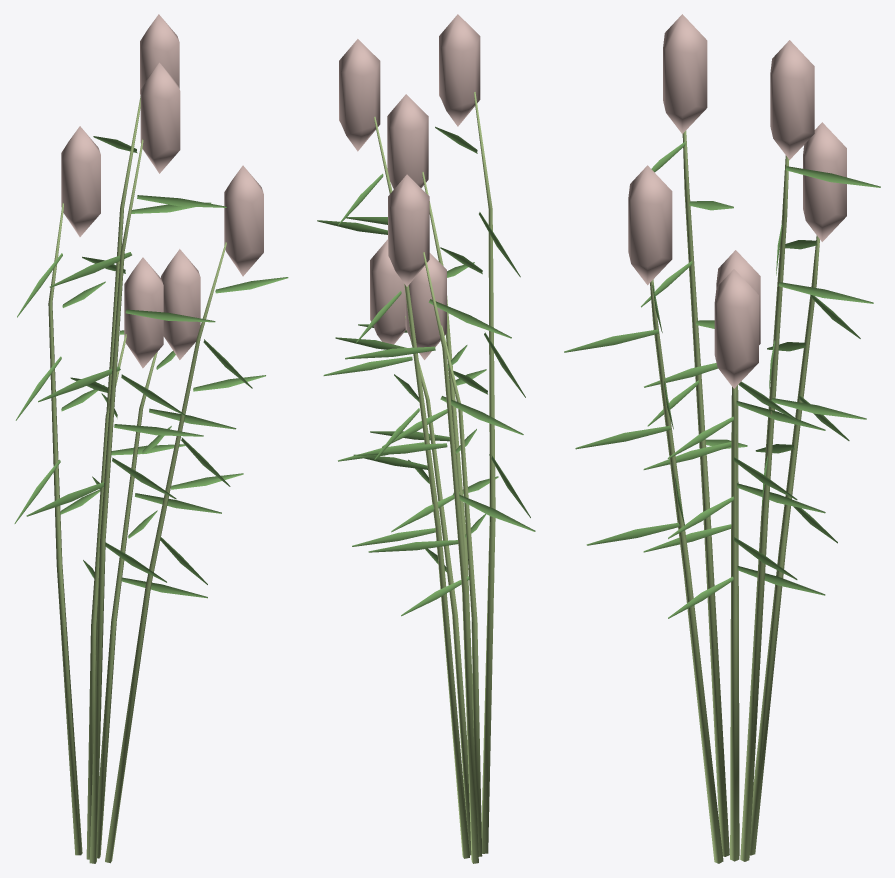
Rendered from aquatic_wetland_reed.glb.
The picture shows the model from 3 angles, left to right: view 1: azimuth 30°, elevation 25°; view 2: azimuth 150°, elevation 25°; view 3: azimuth 270°, elevation 25°; orthographic projection. The views are drawn at different scales.
Parts seen in each view (by area): view 1: Flora_Wetland_Reed; view 2: Flora_Wetland_Reed; view 3: Flora_Wetland_Reed.
Boxes of the visible parts, x1,y1,x2,y2 form: Flora_Wetland_Reed: (14,14,288,863); Flora_Wetland_Reed: (317,14,535,863); Flora_Wetland_Reed: (564,14,880,863).
Bounding box in the file's own units: 1.12 × 3.74 × 1.24.
